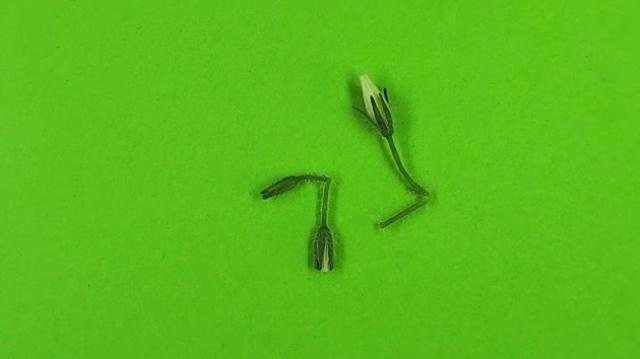Flower Bud: (356, 72, 394, 138), (259, 175, 309, 199), (312, 227, 335, 272)
